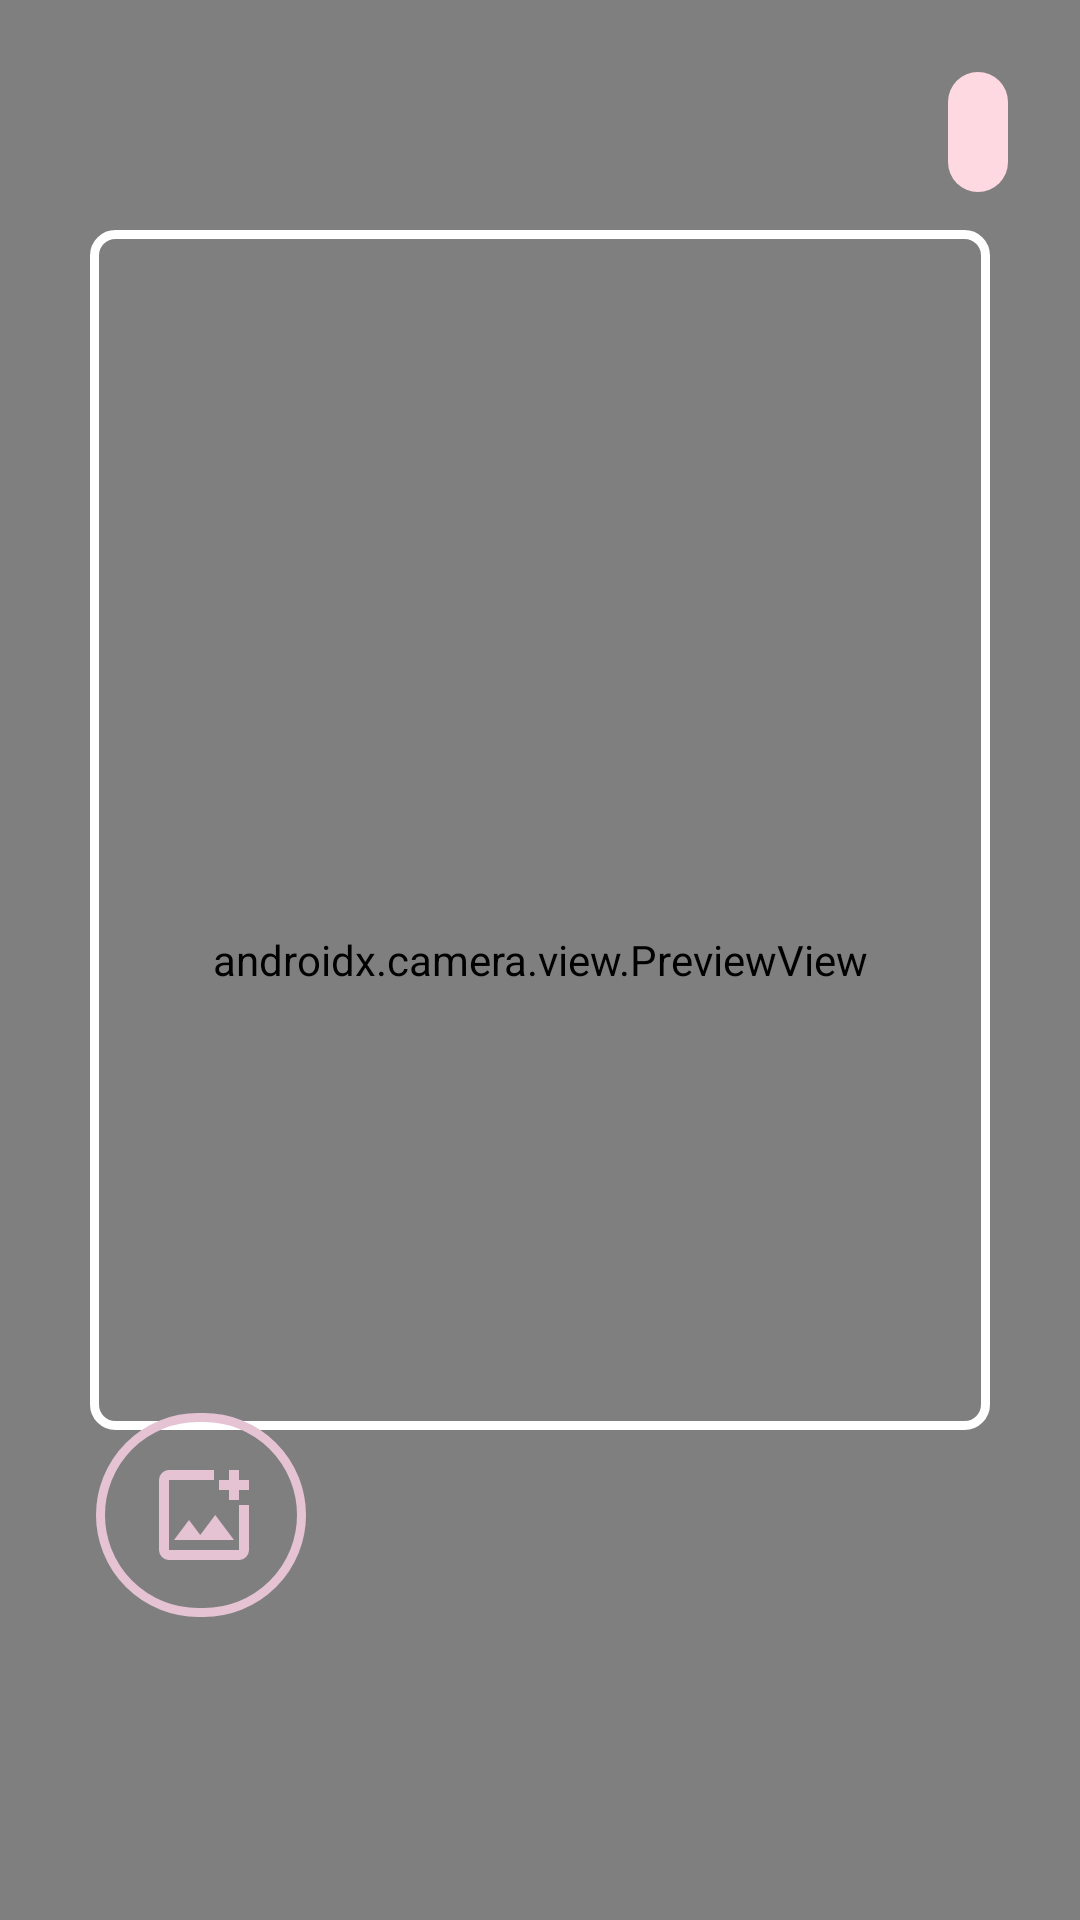

Where to tap for icons on this 1080*1920 app screen, as point (x, y):
add photo: point (201, 1506)
